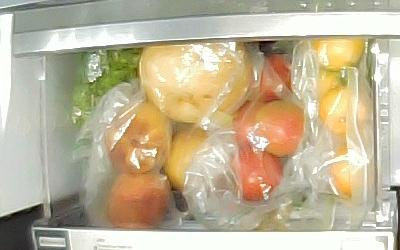peach_vinyl: (105, 102, 171, 173), (106, 171, 170, 230)
pear_vinyl: (137, 42, 252, 122), (163, 128, 206, 189)
tangerine_vinyl: (320, 87, 365, 135), (311, 38, 365, 73), (329, 145, 355, 198), (314, 68, 341, 100)
tomato_vinyl: (253, 101, 303, 157), (232, 149, 283, 200), (252, 53, 291, 102), (233, 101, 264, 150)
